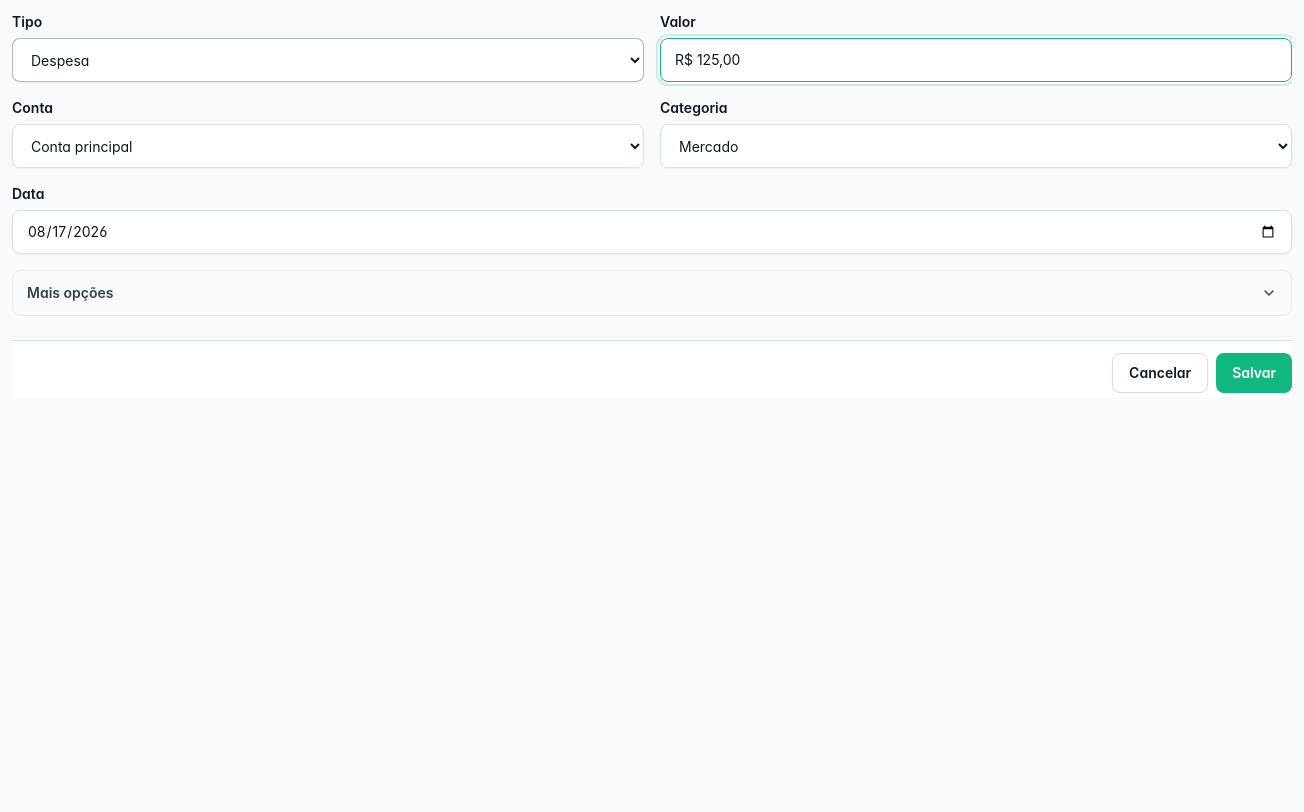
Test case: TransactionForm › mantem somente campos essenciais visiveis e revela a descricao sob demanda
This screenshot has width=1304, height=812.
Expected: the dropdown labelled "Conta" is shown, x1=12 y1=124 x2=644 y2=168
Expected: the dropdown labelled "Categoria" is shown, x1=660 y1=124 x2=1292 y2=168
Step 1. Click the button "Mais opções" → (70, 292), box x1=13 y1=271 x2=1291 y2=315
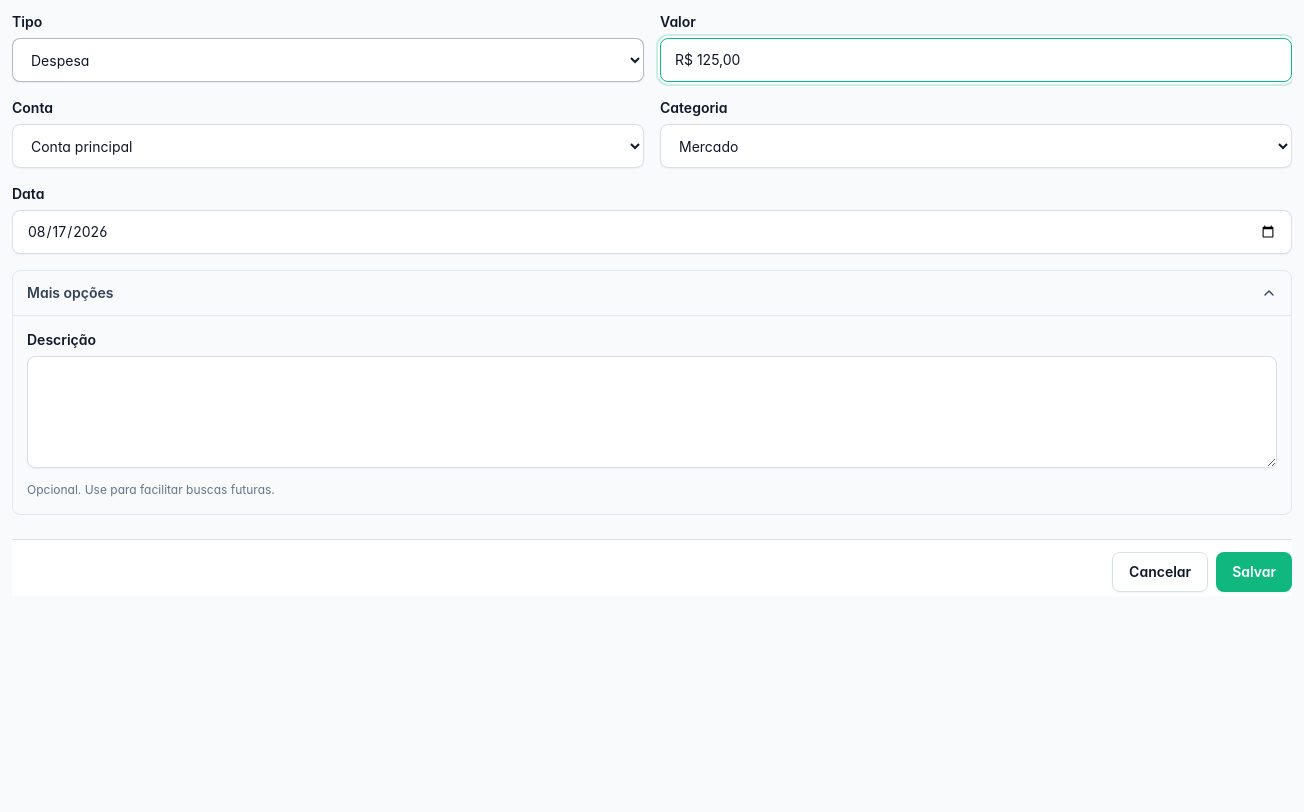
Now the text box labelled "Descrição" is shown, box x1=27 y1=356 x2=1277 y2=468
